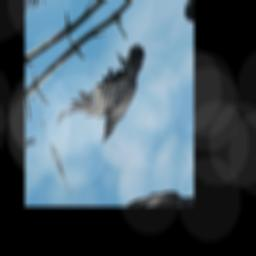Crow: (47, 34, 161, 170)
